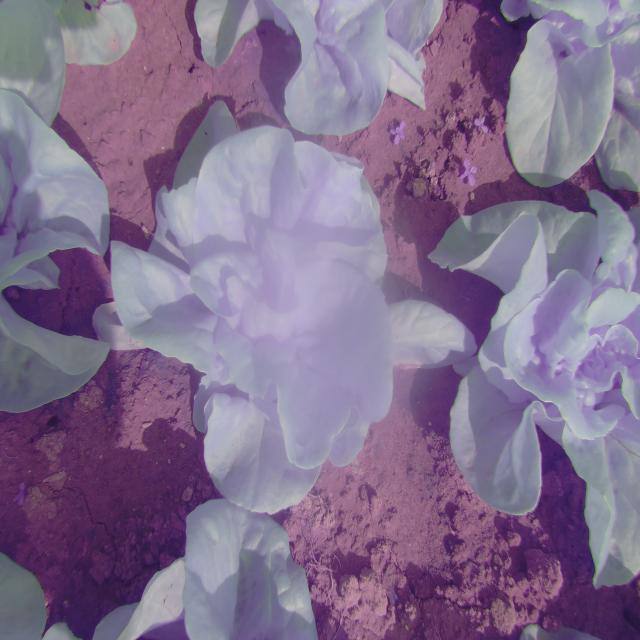vege: (101, 102, 407, 514)
